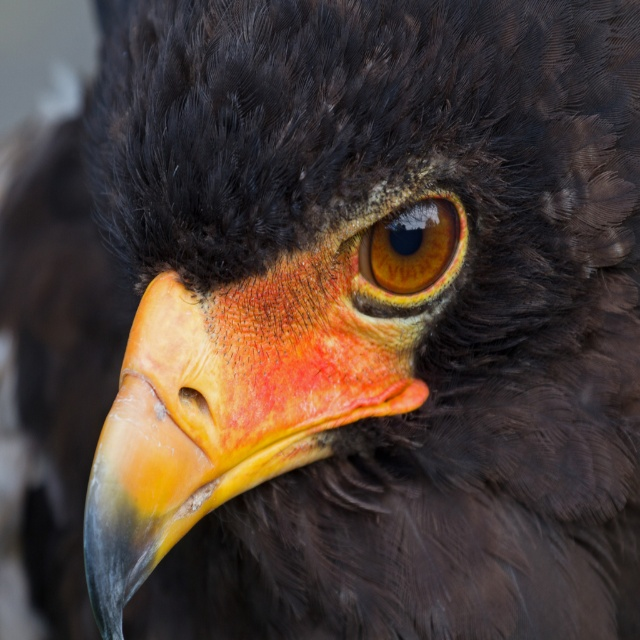Eagle: (74, 0, 640, 639)
